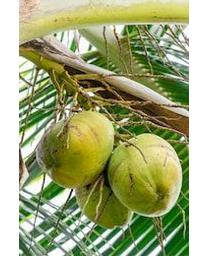coconut: (31, 104, 114, 185), (109, 130, 181, 213), (73, 169, 135, 231)
